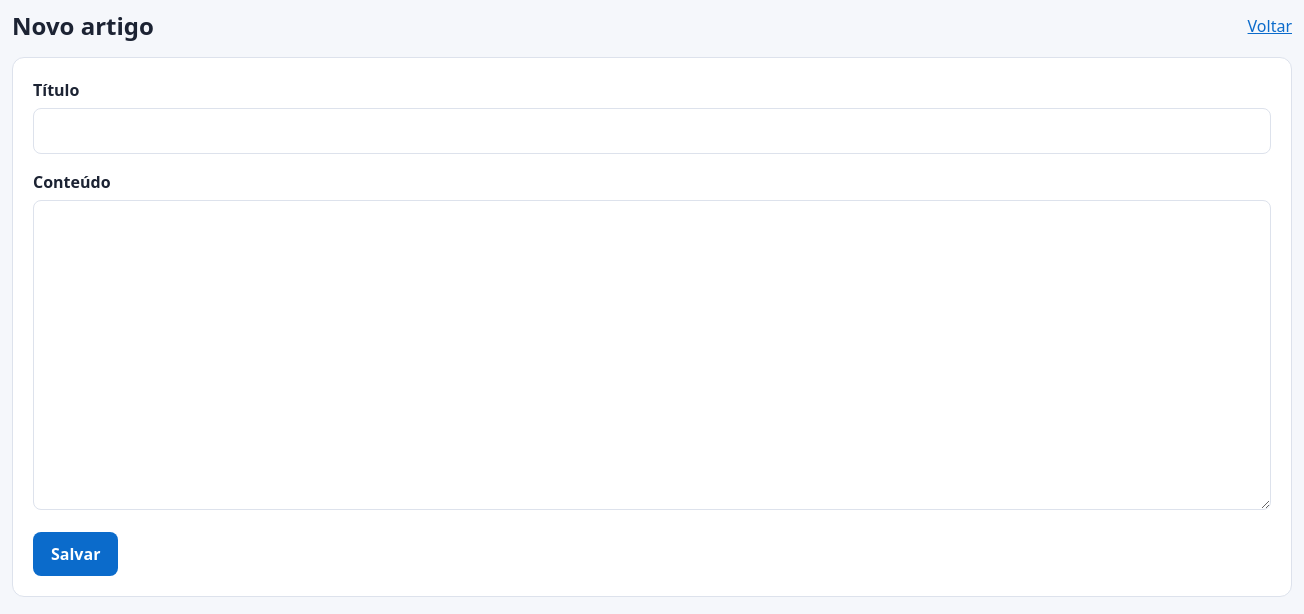
Test: ArticleFormPage › salva com valores sem espaços nas pontas e volta para a lista
Type "  Novo artigo  " into the field labelled "Título". click: (652, 131)
box: top-left (33, 108), bottom-right (1271, 154)
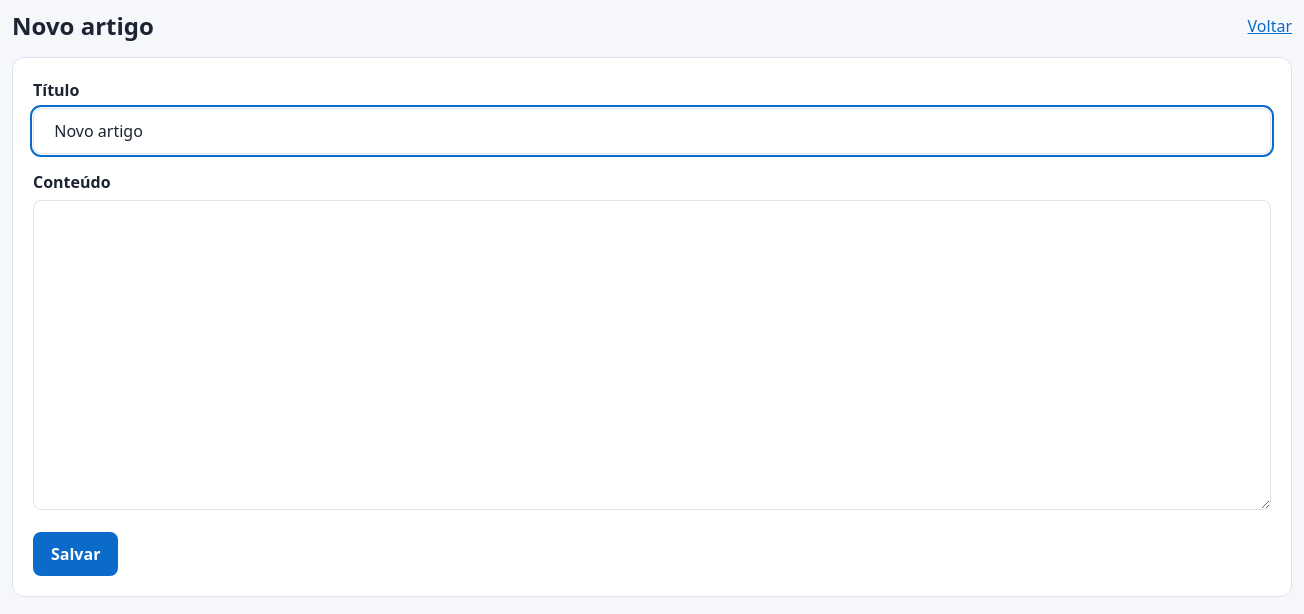
Type "  Texto oficial  " into the text box labelled "Conteúdo". click: (652, 355)
box: top-left (33, 200), bottom-right (1271, 510)
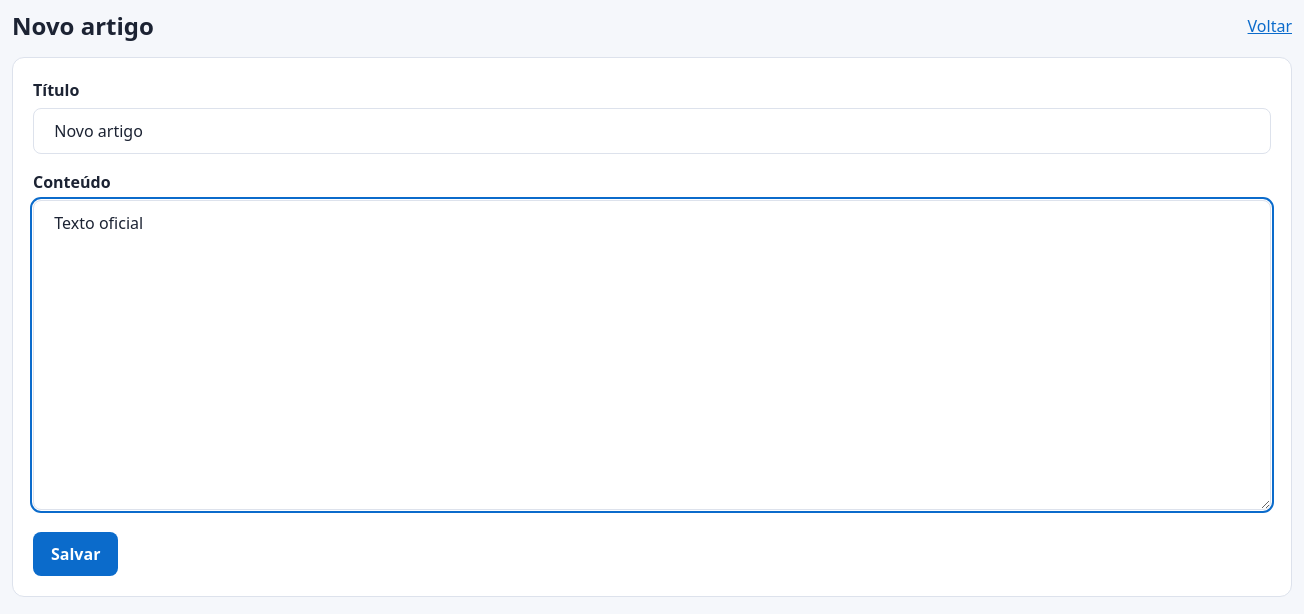
Click the button "Salvar". click: (76, 554)
box: top-left (33, 532), bottom-right (118, 576)
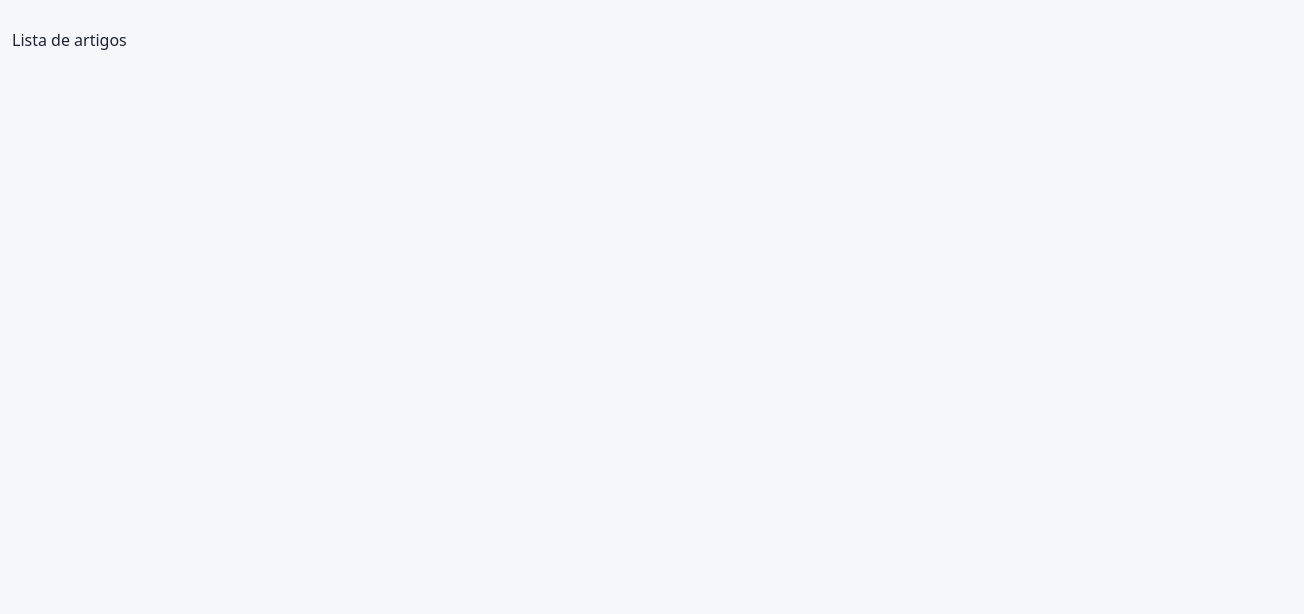
Check: the text "Lista de artigos" is shown, box top-left (12, 29), bottom-right (127, 51)
